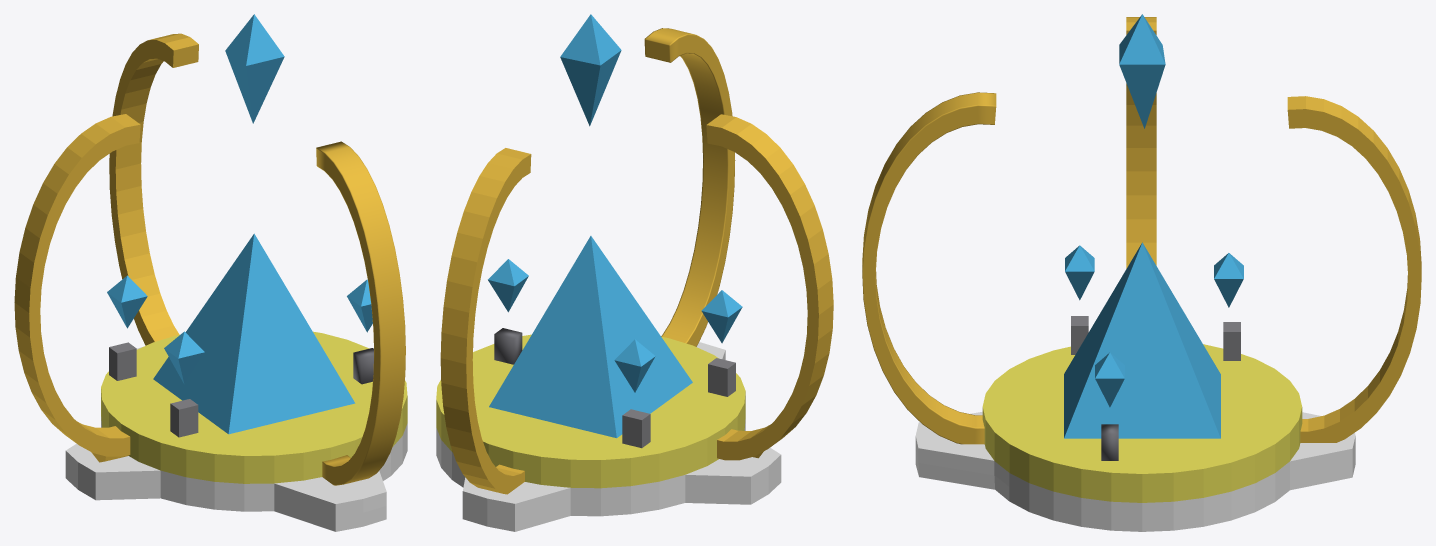
The picture shows the model from 3 angles, left to right: view 1: azimuth 30°, elevation 25°; view 2: azimuth 150°, elevation 25°; view 3: azimuth 270°, elevation 25°; orthographic projection. The views are drawn at different scales.
Visible parts, largest first — view 1: Cube.005, Cylinder.001, Cylinder, Cube, Cube.006, Cube.011, Cube.001, Cube.003, Cube.007, Cube.009, Cube.004, Cube.010 (+1 smaller); view 2: Cube.005, Cylinder.001, Cube.011, Cylinder, Cube.006, Cube, Cube.001, Cube.003, Cube.010, Cube.007, Cube.004, Cube.009 (+1 smaller); view 3: Cylinder.001, Cube.005, Cylinder, Cube, Cube.011, Cube.006, Cube.001, Cube.010, Cube.003, Cube.007, Cube.004, Cube.002.
Part boxes in pixels (box(x1,y1,x2,y2)): Cube.005: box(153, 233, 355, 434); Cylinder.001: box(101, 331, 407, 483); Cylinder: box(65, 347, 407, 531); Cube: box(316, 141, 405, 485); Cube.006: box(14, 114, 140, 462); Cube.011: box(109, 33, 198, 345); Cube.001: box(225, 14, 284, 123); Cube.003: box(164, 331, 204, 384); Cube.007: box(107, 275, 147, 328); Cube.009: box(170, 399, 198, 437); Cube.004: box(109, 342, 136, 380); Cube.010: box(347, 279, 372, 332); Cube.005: box(489, 236, 692, 438); Cylinder.001: box(436, 334, 745, 488); Cube.011: box(440, 148, 531, 494); Cylinder: box(436, 342, 781, 531); Cube.006: box(706, 114, 833, 460); Cube: box(644, 28, 735, 346); Cube.001: box(560, 14, 621, 126); Cube.003: box(701, 290, 742, 343); Cube.010: box(488, 259, 528, 312); Cube.007: box(614, 339, 655, 392); Cube.004: box(622, 409, 650, 448); Cube.009: box(708, 358, 735, 396); Cylinder.001: box(982, 344, 1302, 502); Cube.005: box(1064, 242, 1220, 438); Cylinder: box(915, 411, 1355, 531); Cube: box(862, 92, 996, 444); Cube.011: box(1287, 96, 1421, 442); Cube.006: box(1126, 17, 1156, 268); Cube.001: box(1119, 14, 1165, 128); Cube.010: box(1095, 352, 1124, 407); Cube.003: box(1065, 245, 1094, 300); Cube.007: box(1214, 253, 1243, 307); Cube.004: box(1223, 322, 1240, 360); Cube.002: box(1101, 424, 1118, 460).
Bounding box in the file's own units: 2751 × 3111 × 3501.
